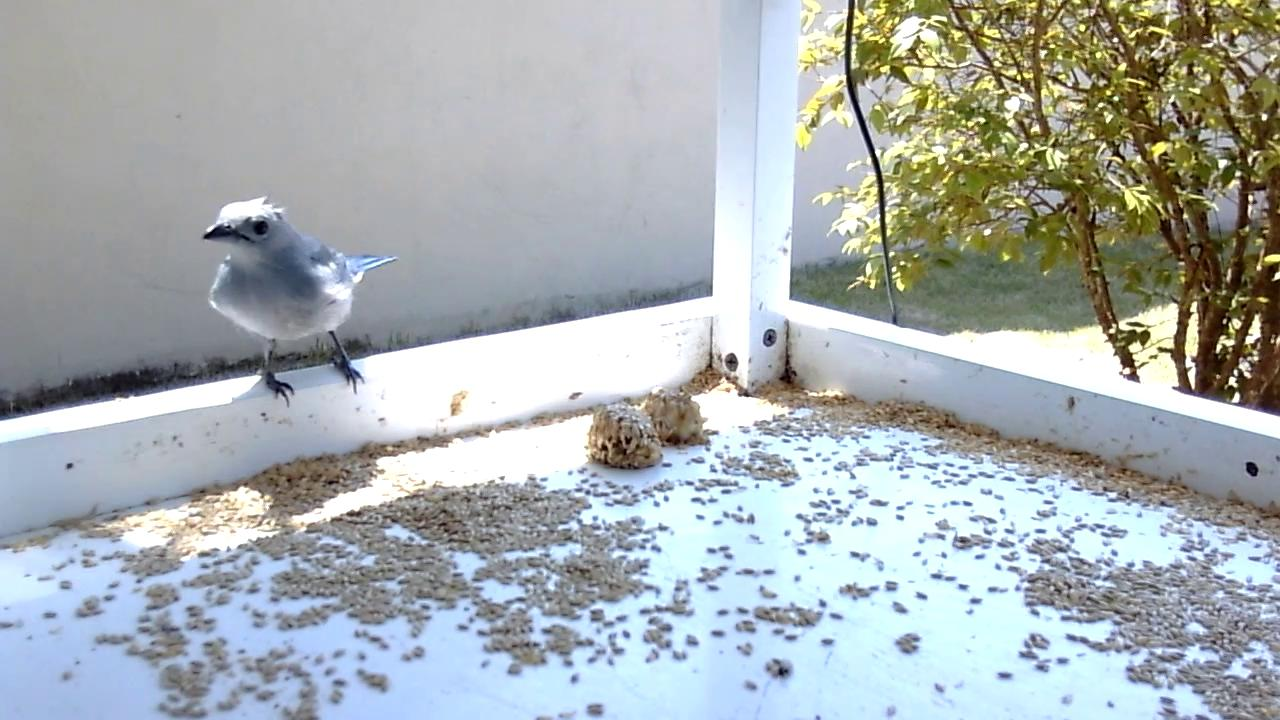sanhaco_da_amazonia: (199, 195, 401, 411)
